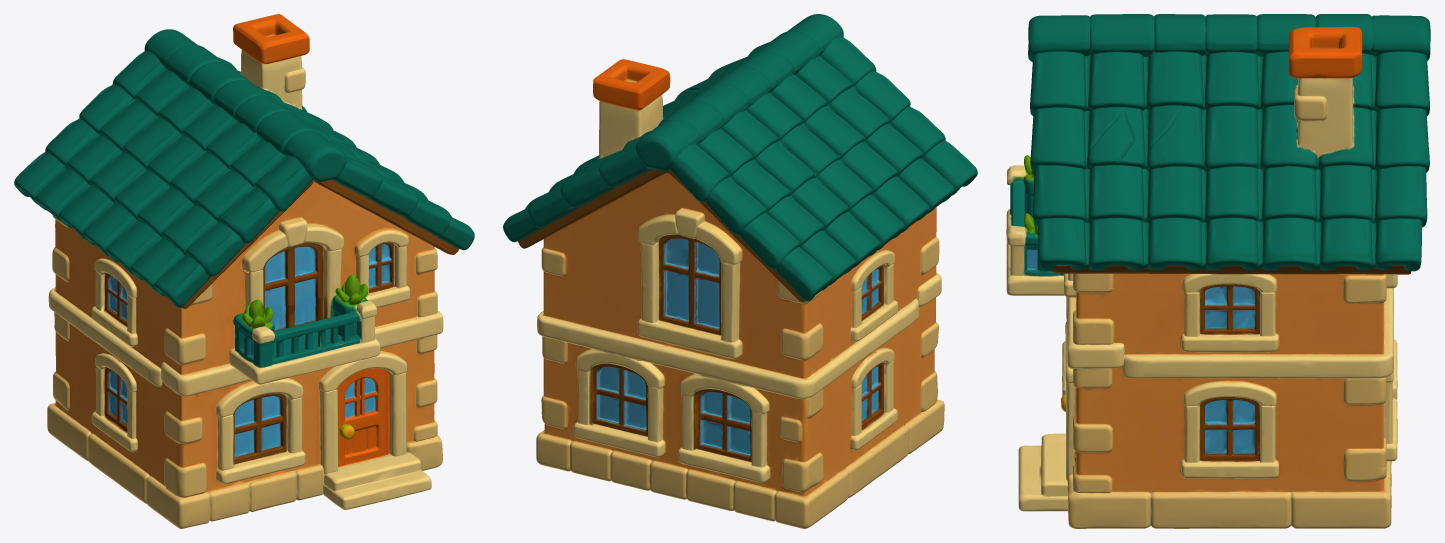
The model's file is CuteHouse.glb.
The picture shows the model from 3 angles, left to right: view 1: azimuth 30°, elevation 25°; view 2: azimuth 150°, elevation 25°; view 3: azimuth 270°, elevation 25°; orthographic projection. The views are drawn at different scales.
Parts seen in each view (by area): view 1: tripo_node_36032333-80ac-44e2-a7e4-d574cc93badf; view 2: tripo_node_36032333-80ac-44e2-a7e4-d574cc93badf; view 3: tripo_node_36032333-80ac-44e2-a7e4-d574cc93badf.
Part boxes in pixels (x1,y1,x2,y2): tripo_node_36032333-80ac-44e2-a7e4-d574cc93badf: (14, 14, 474, 528); tripo_node_36032333-80ac-44e2-a7e4-d574cc93badf: (503, 14, 977, 528); tripo_node_36032333-80ac-44e2-a7e4-d574cc93badf: (1006, 14, 1430, 528).
Size of the model in its own units: 0.8412 by 0.9795 by 0.8315.
1 material, 1 textured.
